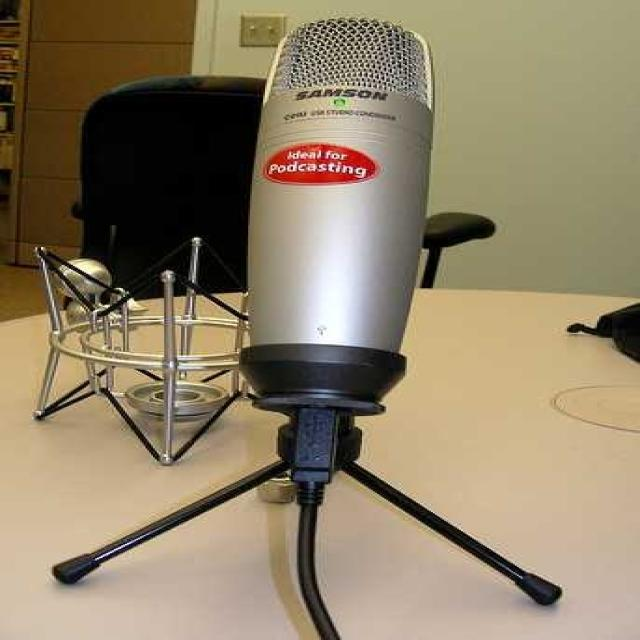microphone: (246, 21, 435, 407)
